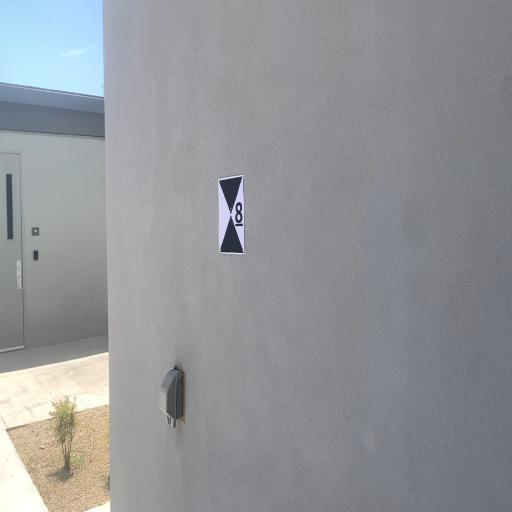target8: (219, 175, 245, 253)
